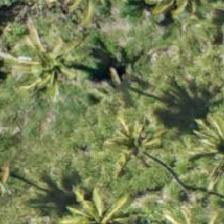coconut_tree: (99, 98, 189, 188), (0, 16, 86, 106), (175, 100, 223, 190), (53, 176, 143, 223)
